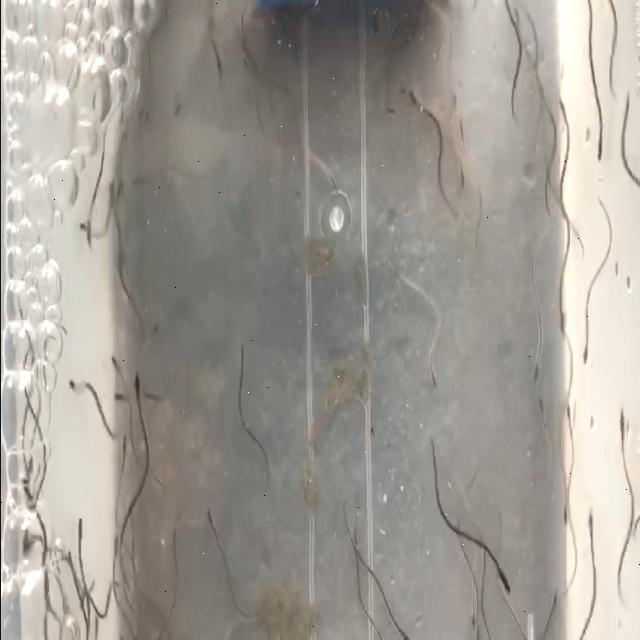active_glass_eel: (97, 346, 131, 418), (580, 302, 597, 374), (422, 356, 444, 408), (586, 132, 610, 177), (116, 436, 136, 490), (103, 161, 123, 213), (490, 541, 508, 597), (412, 85, 436, 126), (508, 604, 534, 640), (466, 589, 488, 631), (76, 196, 94, 246), (614, 410, 632, 457), (586, 503, 602, 554), (206, 42, 226, 81), (66, 368, 90, 400), (536, 384, 554, 426), (73, 514, 87, 567), (129, 368, 149, 403), (22, 478, 40, 516), (555, 304, 570, 346), (527, 340, 539, 388), (555, 500, 569, 540), (150, 610, 168, 640), (564, 388, 576, 432), (235, 338, 247, 378), (558, 95, 572, 128), (204, 507, 218, 540), (542, 596, 560, 620), (619, 90, 631, 126)
